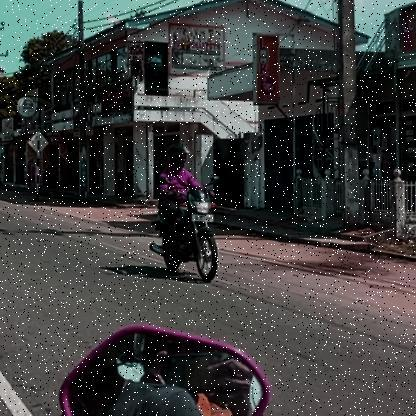motorcycle: (147, 188, 224, 288)
